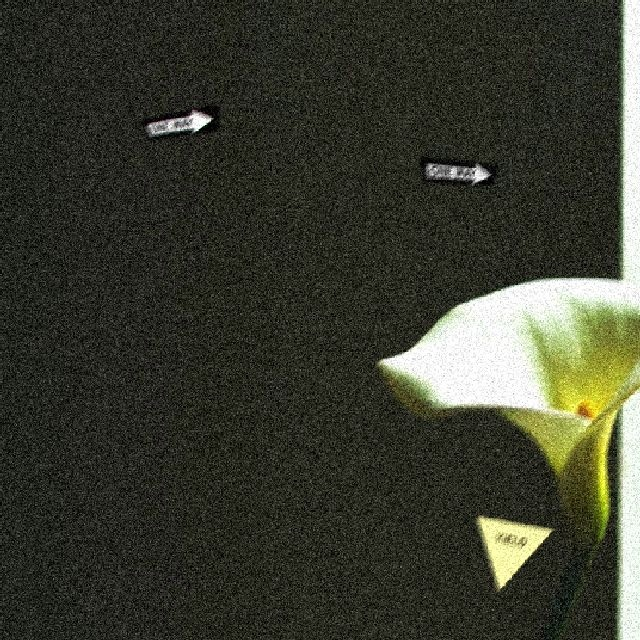ONE_WAY_ right: (141, 103, 219, 140), (419, 156, 497, 185)
YIELD: (476, 515, 554, 591)
